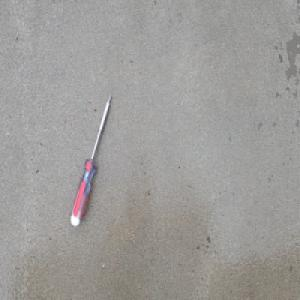Screwdriver: (68, 91, 112, 228)
